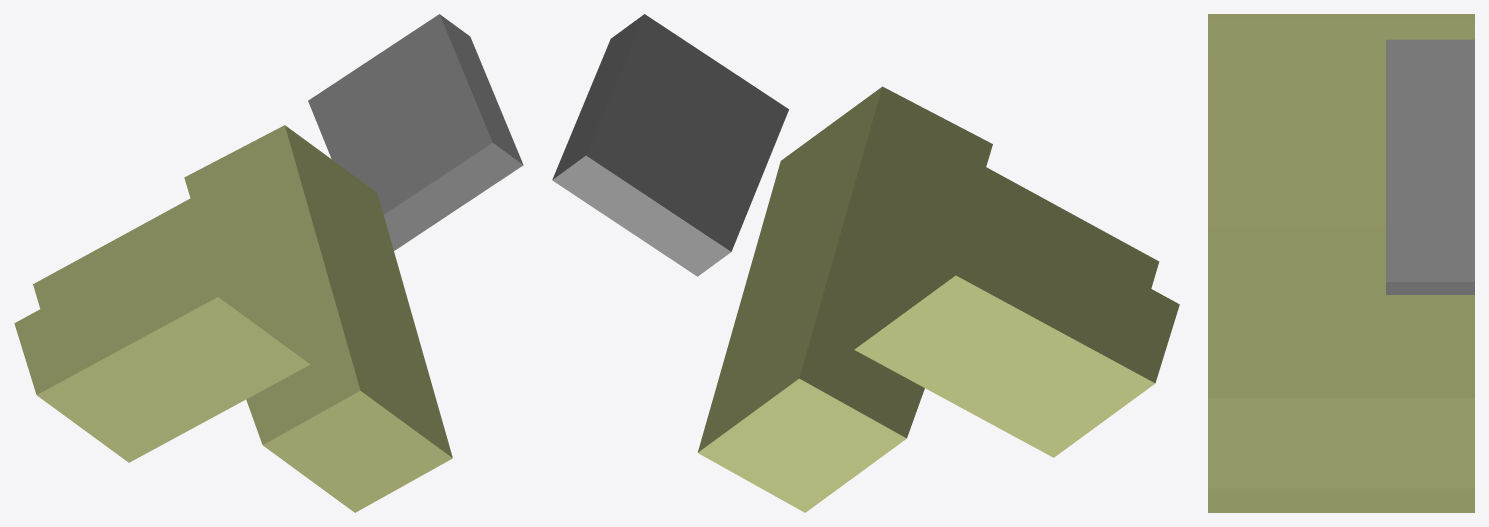
3 views of the same model, side by side, from view 1: azimuth 30°, elevation 25°; view 2: azimuth 150°, elevation 25°; view 3: azimuth 270°, elevation 25° (orthographic). The views are drawn at different scales.
Visible parts, largest first — view 1: 0_3_1_0_3_3_3_3_1_1; view 2: 0_3_1_0_3_3_3_3_1_1; view 3: 0_3_1_0_3_3_3_3_1_1.
Boxes of the visible parts, box(x1,y1,x2,y2) form: 0_3_1_0_3_3_3_3_1_1: box(14, 14, 523, 512); 0_3_1_0_3_3_3_3_1_1: box(552, 14, 1179, 512); 0_3_1_0_3_3_3_3_1_1: box(1208, 14, 1474, 512).
Bounding box in the file's own units: 26.88 × 20.84 × 9.
